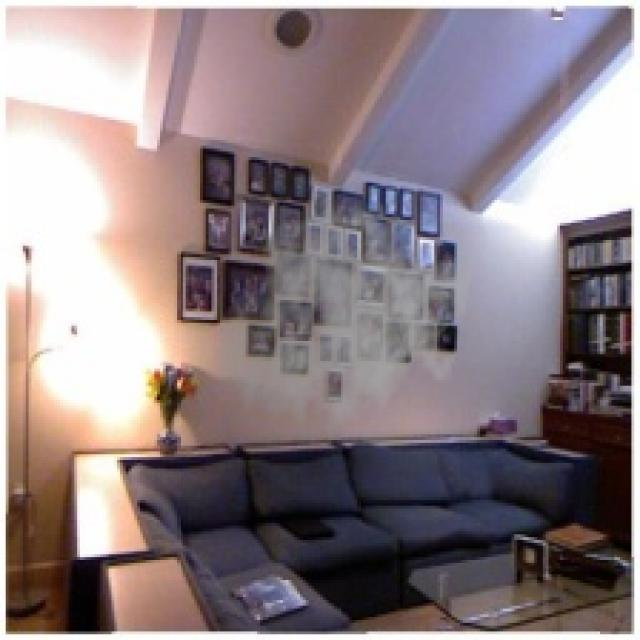smoke: (215, 192, 474, 452)
